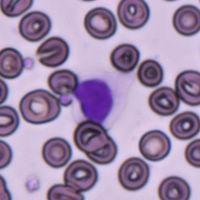L: (71, 72, 129, 127)
